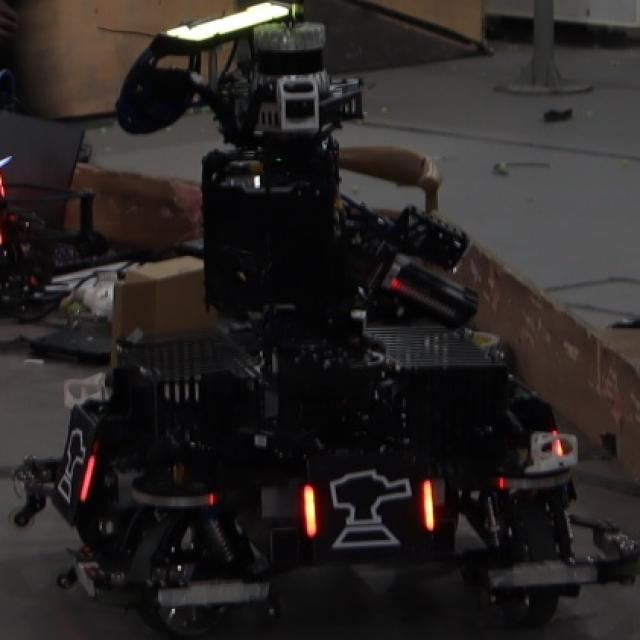Rs: (301, 468, 439, 553), (55, 415, 97, 510)
